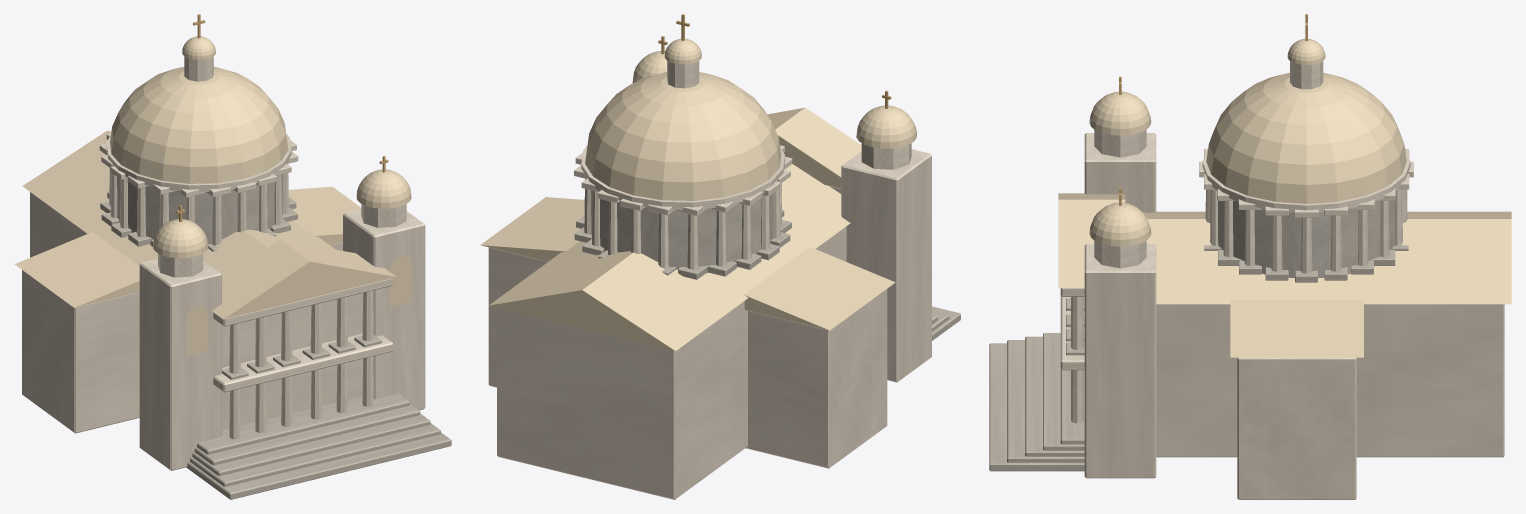
The model's file is st-pauls.glb.
The picture shows the model from 3 angles, left to right: view 1: azimuth 30°, elevation 25°; view 2: azimuth 150°, elevation 25°; view 3: azimuth 270°, elevation 25°; orthographic projection. The views are drawn at different scales.
Visible parts, largest first — view 1: st-pauls; view 2: st-pauls; view 3: st-pauls.
Boxes of the visible parts, box(x1,y1,x2,y2) form: st-pauls: box(14, 14, 451, 499); st-pauls: box(480, 14, 960, 499); st-pauls: box(989, 14, 1511, 499).
Size of the model in its own units: 8.6 by 9.28 by 10.95.
1 material, 1 textured.
